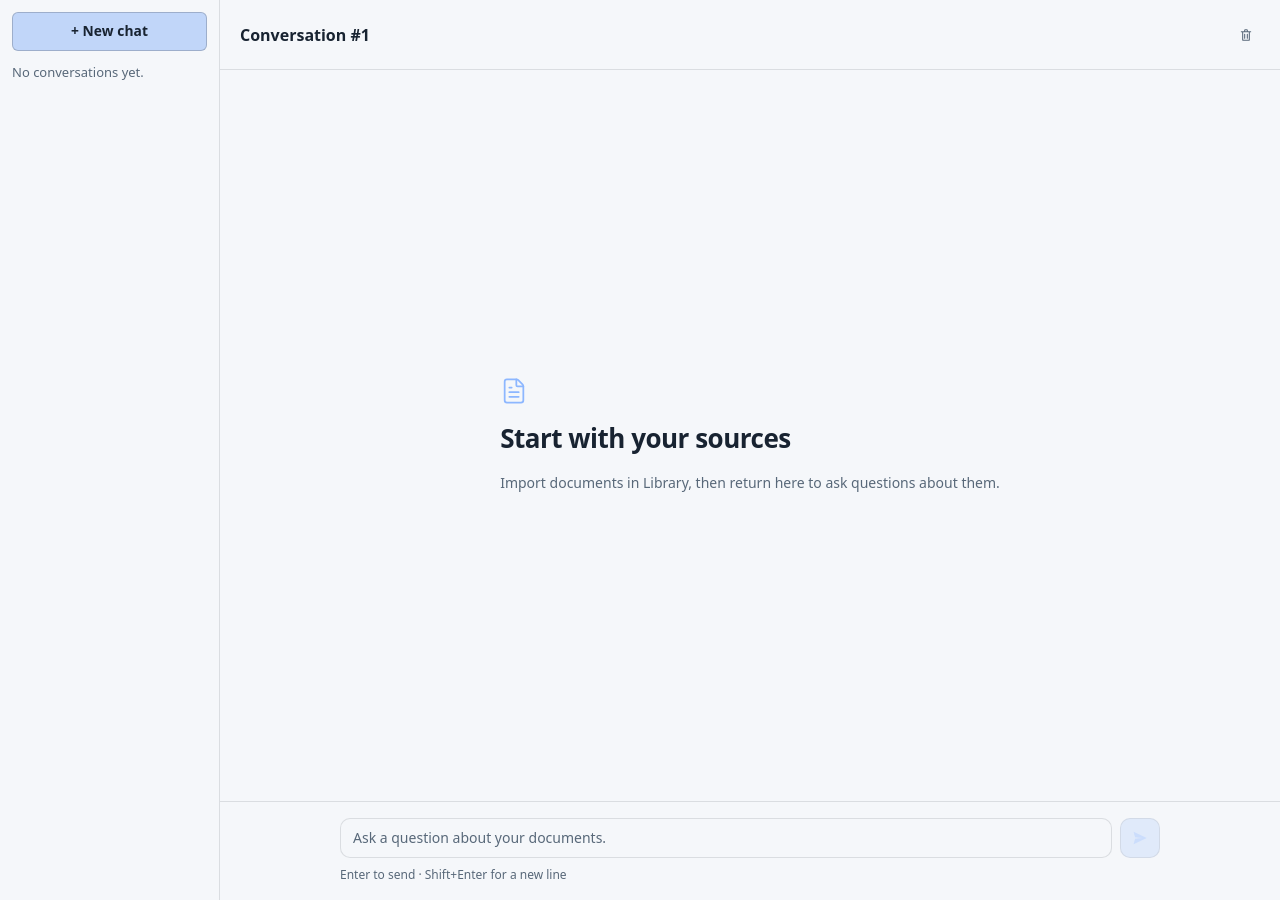
it: chat terminal text and supplied citations › does not override a pending selection to a different conversation at completion
Step 1. Type "A question" into the text box with class "chat__input" → (726, 838), box [340, 818, 1112, 858]
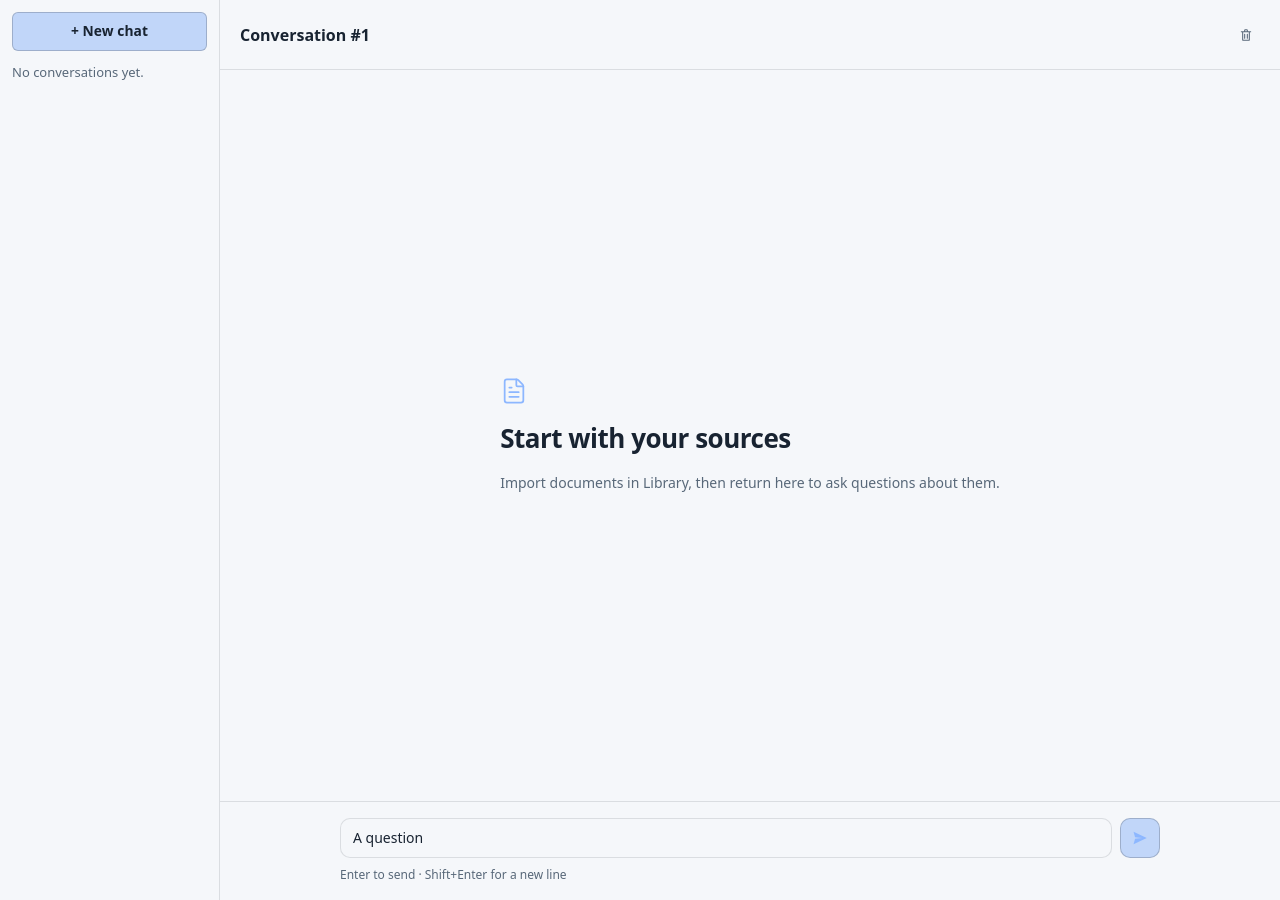
Step 2. Press Enter in the text box with class "chat__input", box [340, 818, 1112, 858]
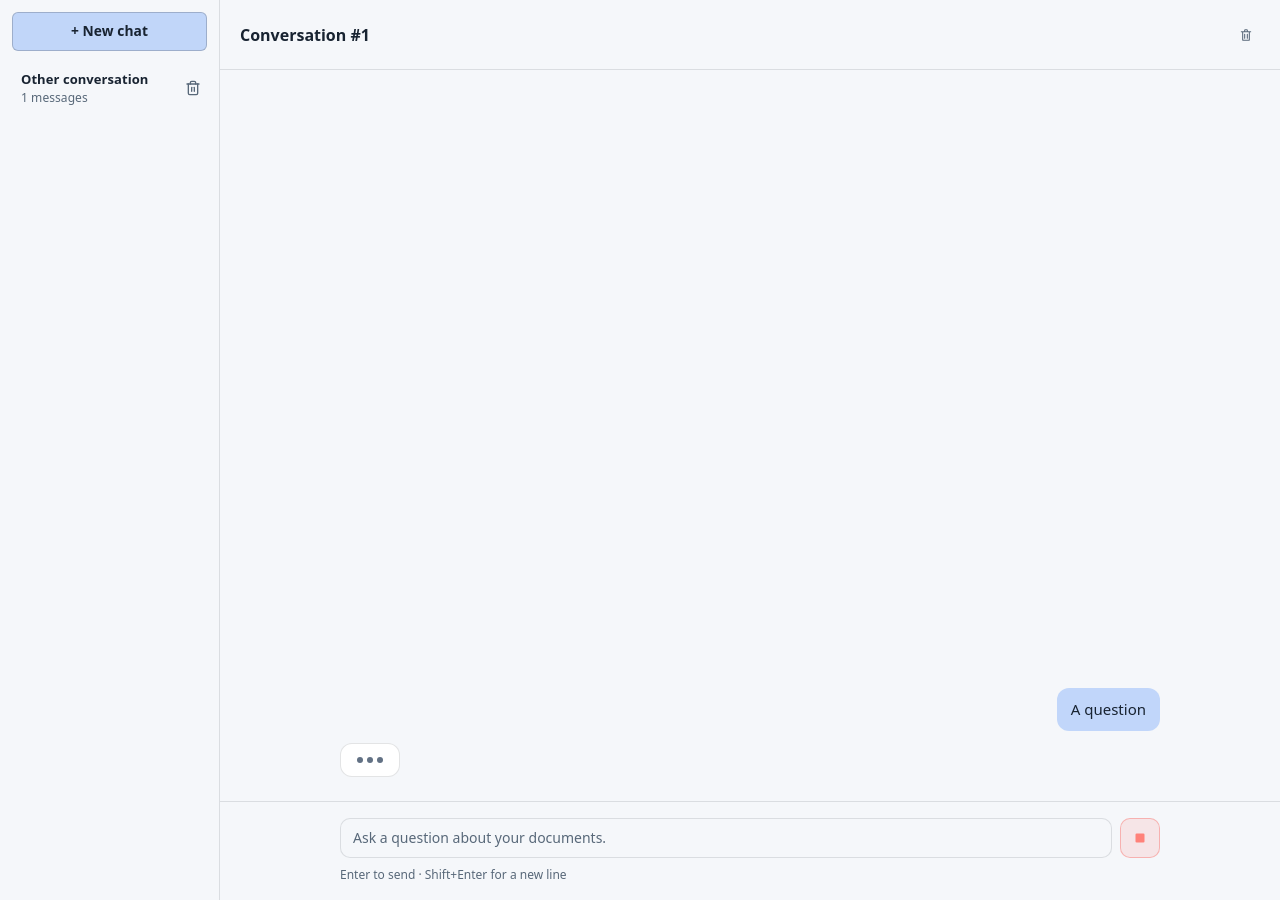
Step 3. Click the button "Other conversation 1 messages" → (94, 88), box [12, 63, 175, 114]
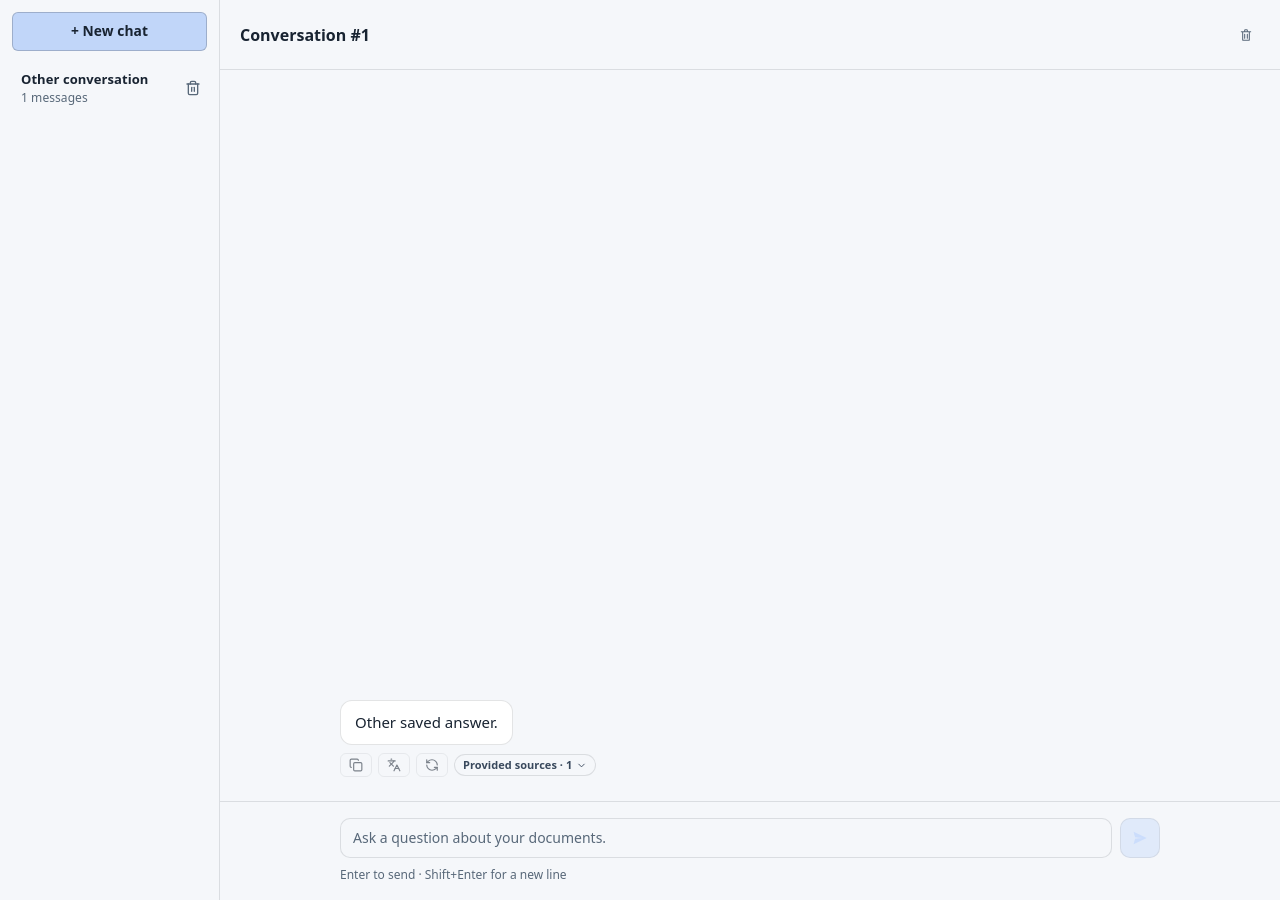
Check: the text "Other saved answer." is shown, box [355, 711, 498, 734]
